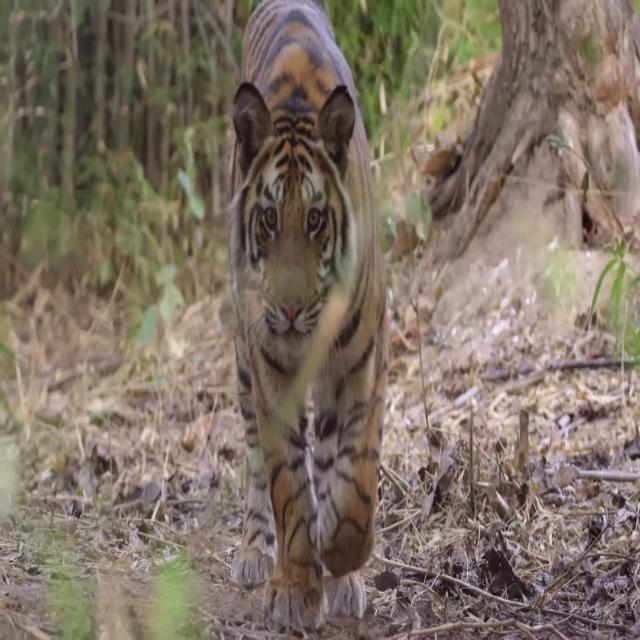tiger: (228, 0, 392, 640)
